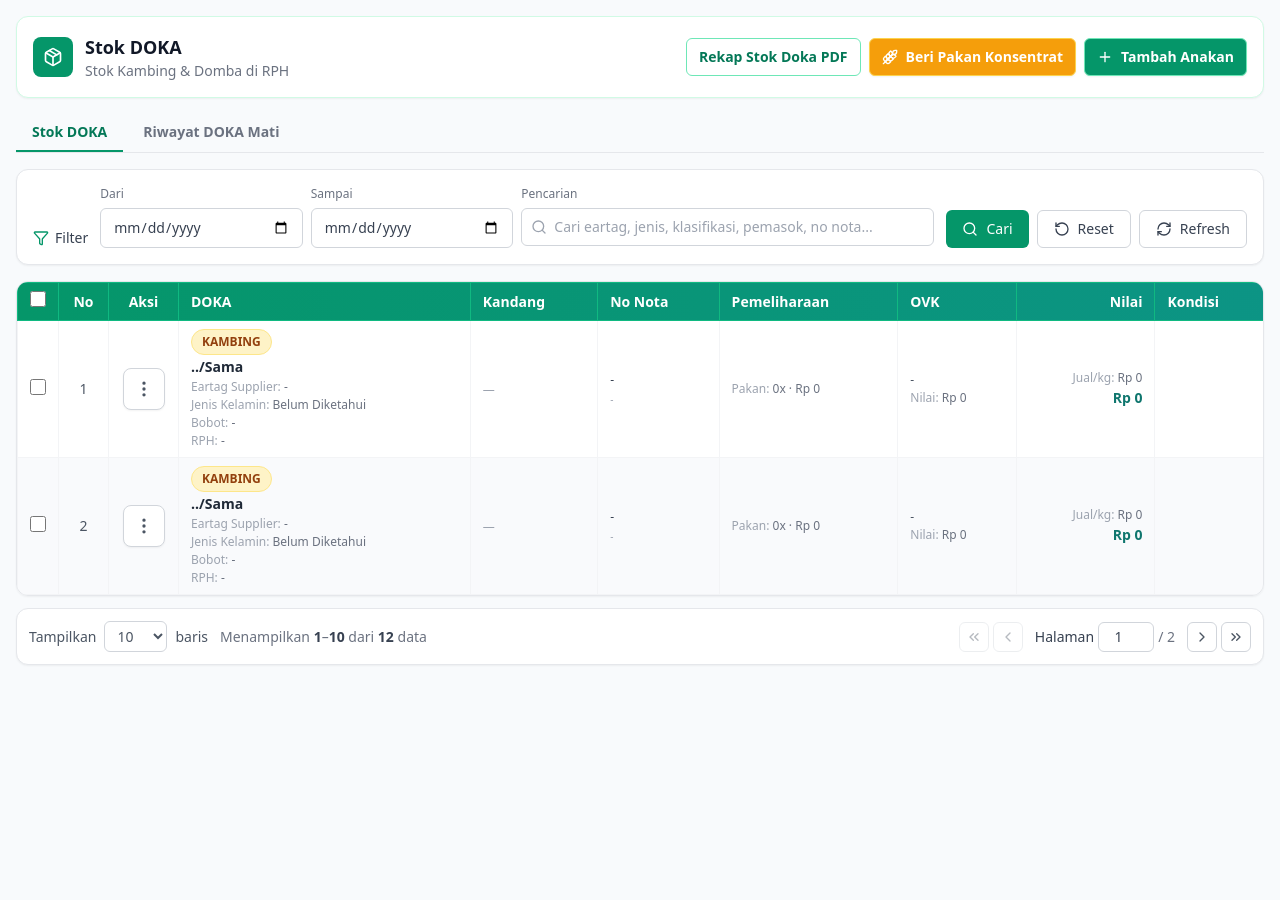
Test: recap sends applied filters, not draft filters or pagination
The width and height of the screenshot is (1280, 900).
Type "2026-09-01" into the 1st date field at [201, 228], box [100,208,303,248]
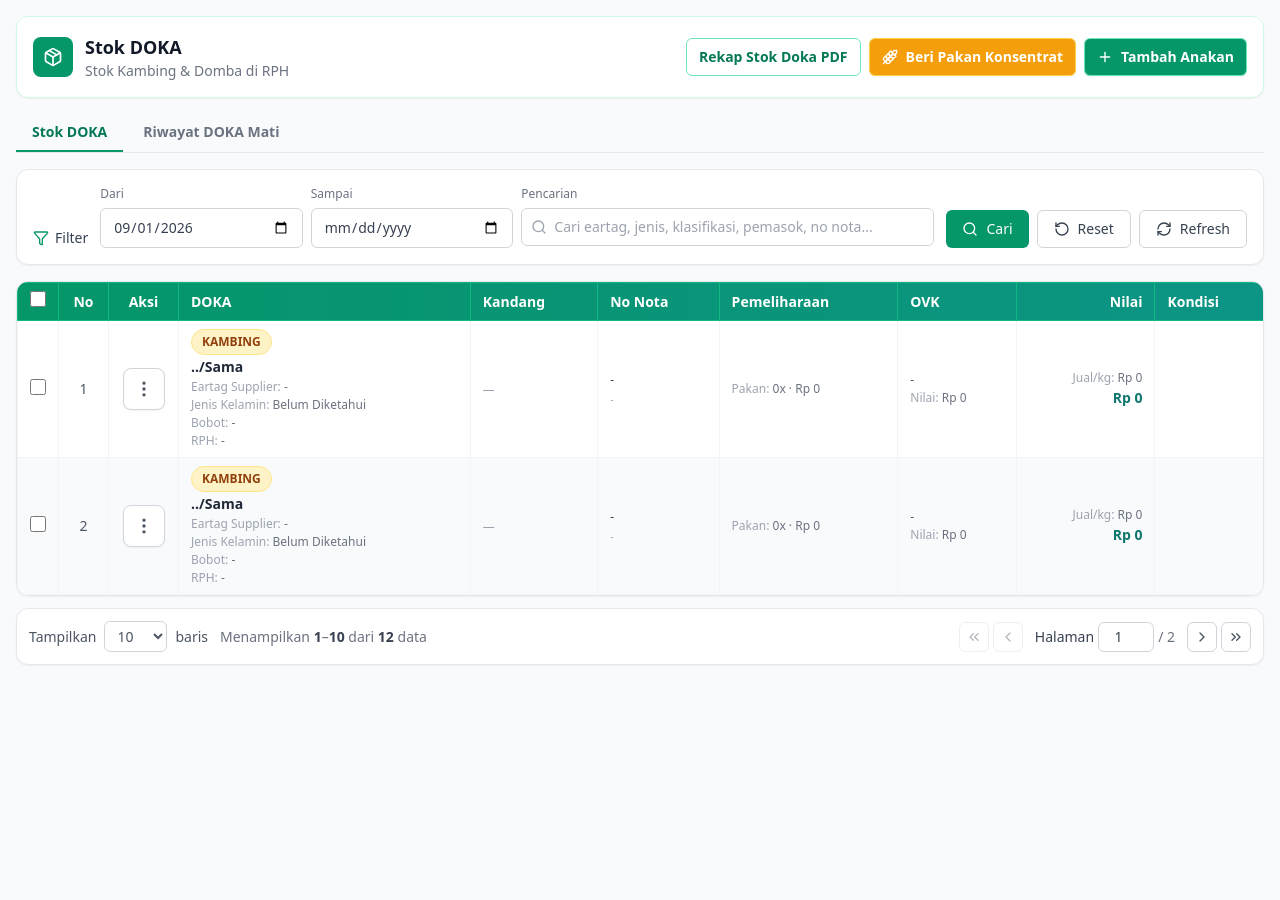
Type "2026-09-15" into the date field below "Sampai" at [412, 228], box [311,208,513,248]
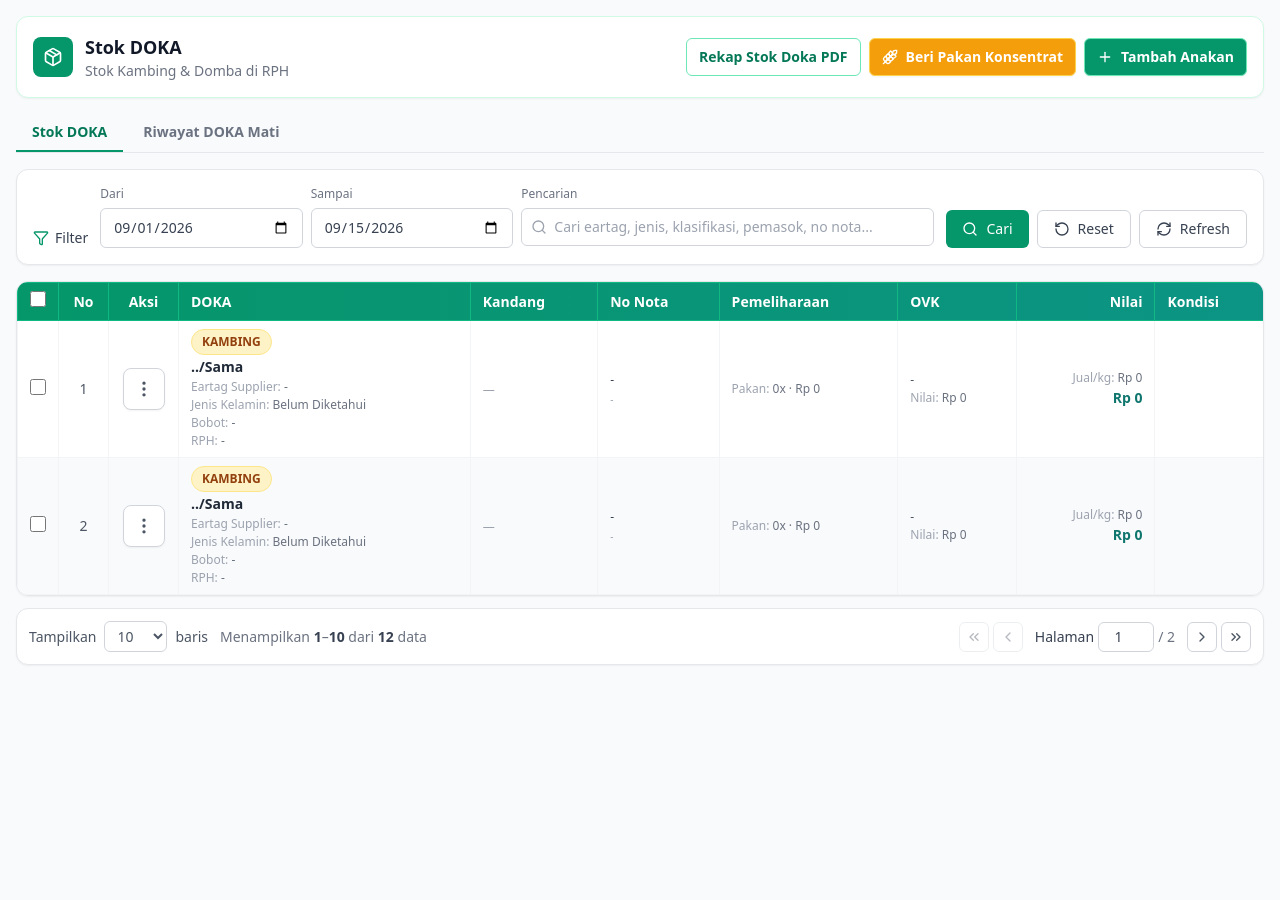
Type " Kambing " into the field at [728, 227], box [521,208,934,246]
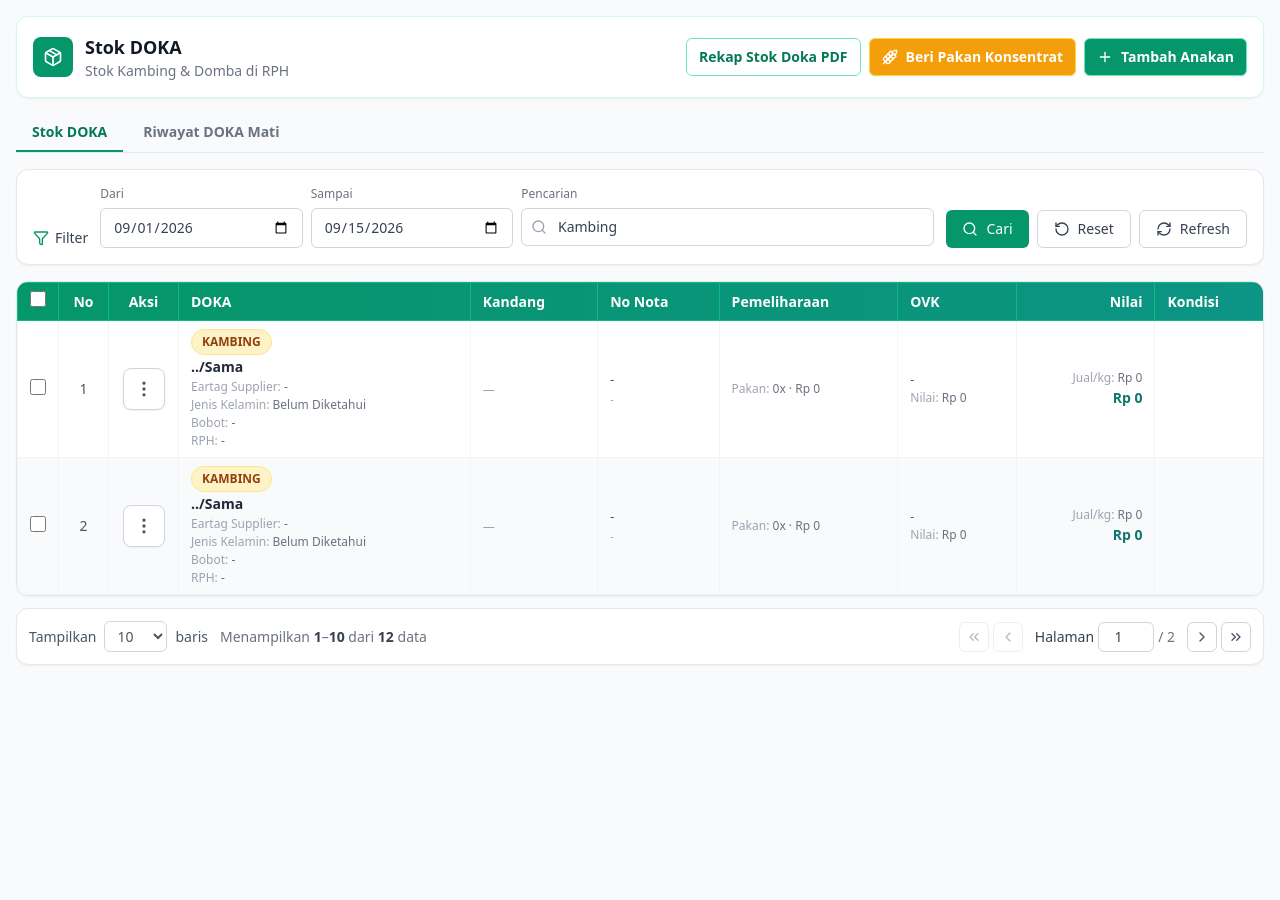
Press Enter in the field, box [521,208,934,246]
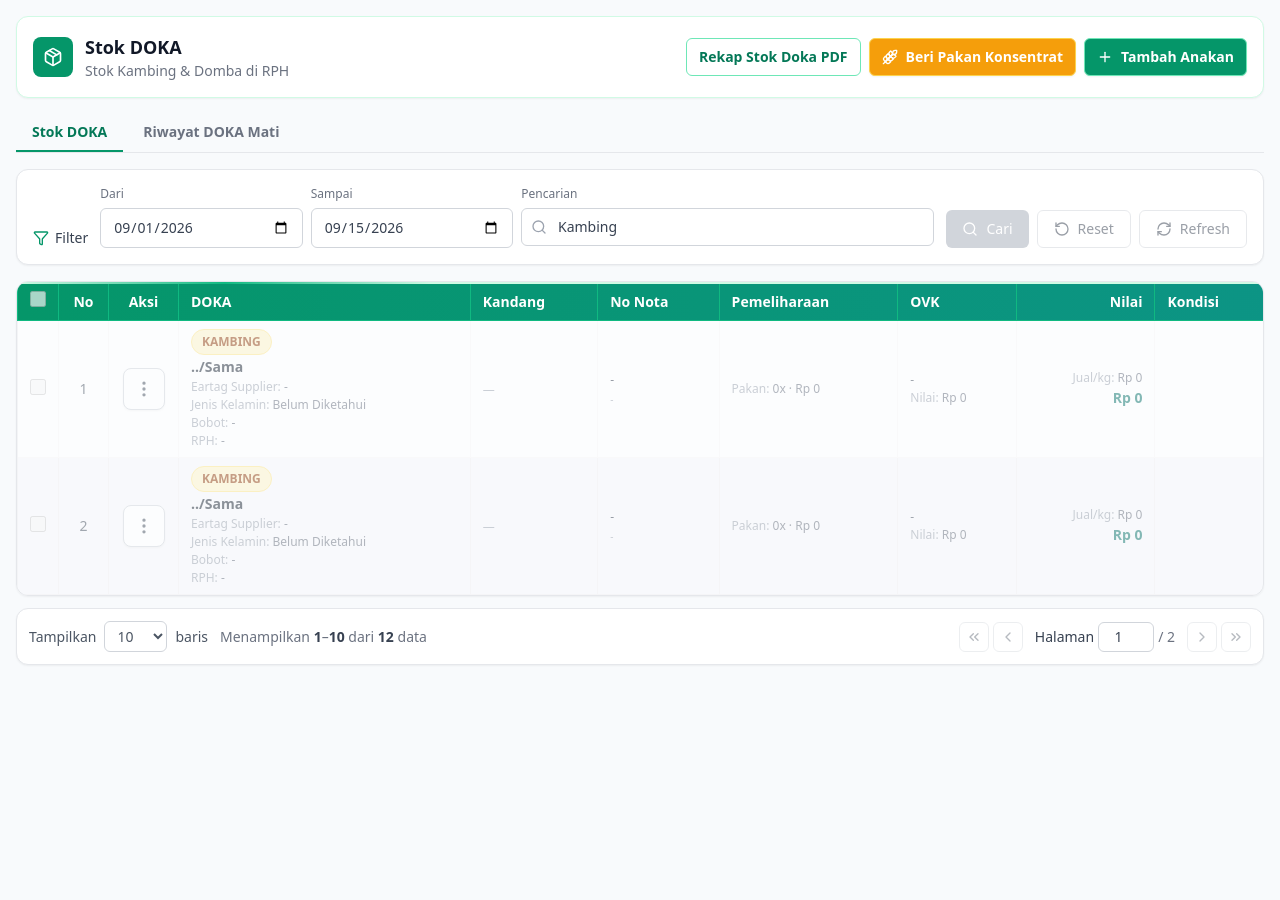
Type "2026-09-02" into the 1st date field at [201, 228], box [100,208,303,248]
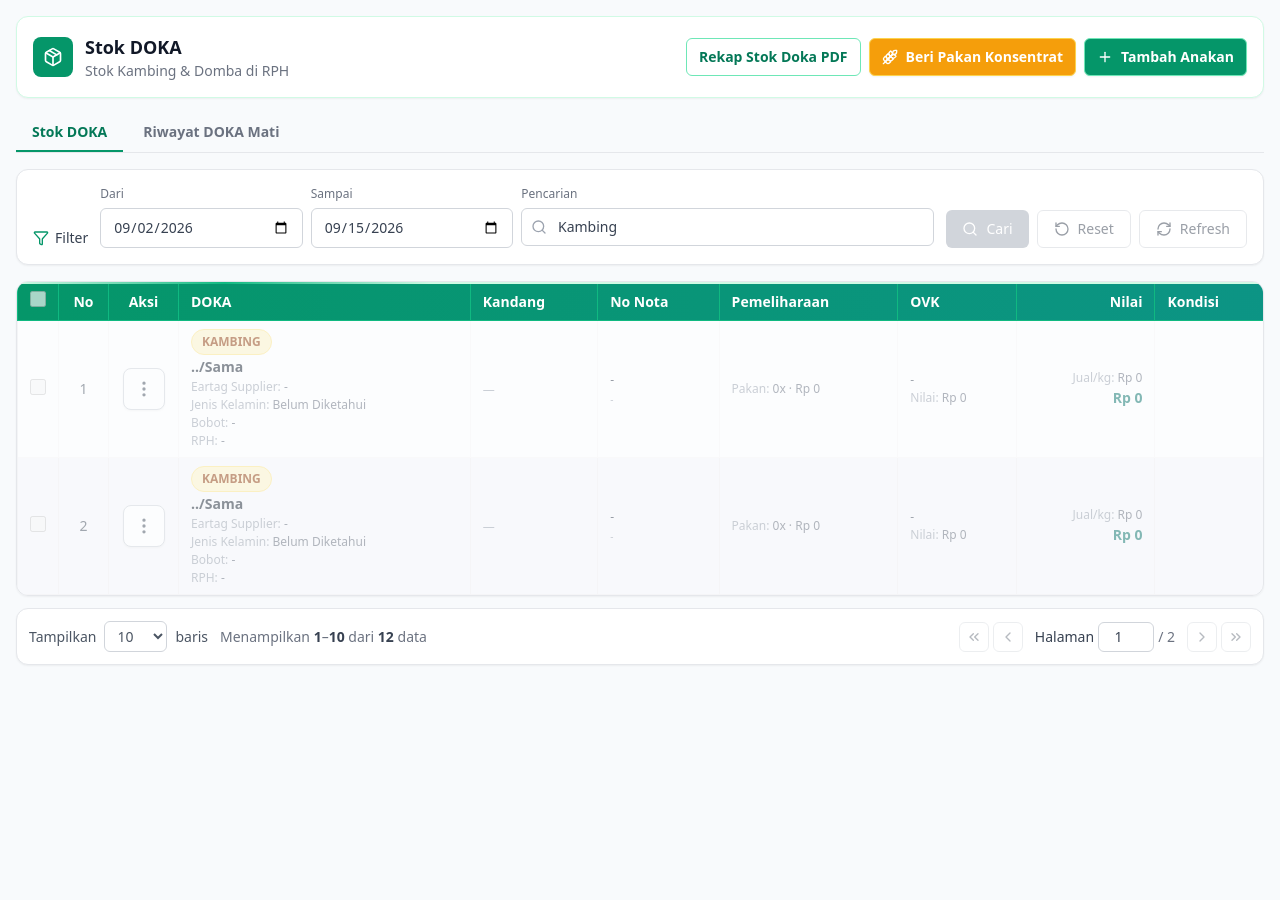
Click the button "Rekap Stok Doka PDF" at [773, 57], box [686,38,861,76]
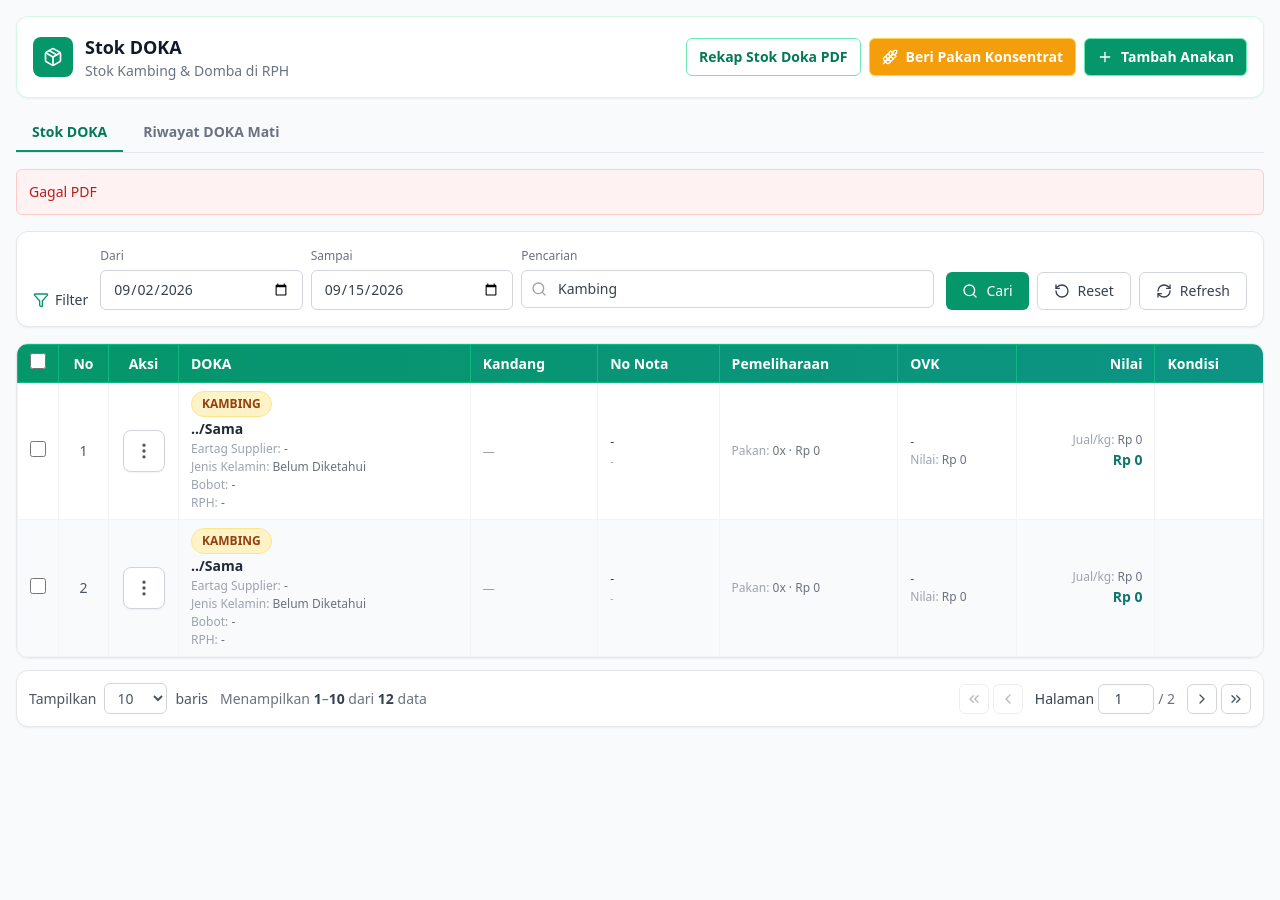
Expected: the message reads "Gagal PDF", [29,182,97,201]
